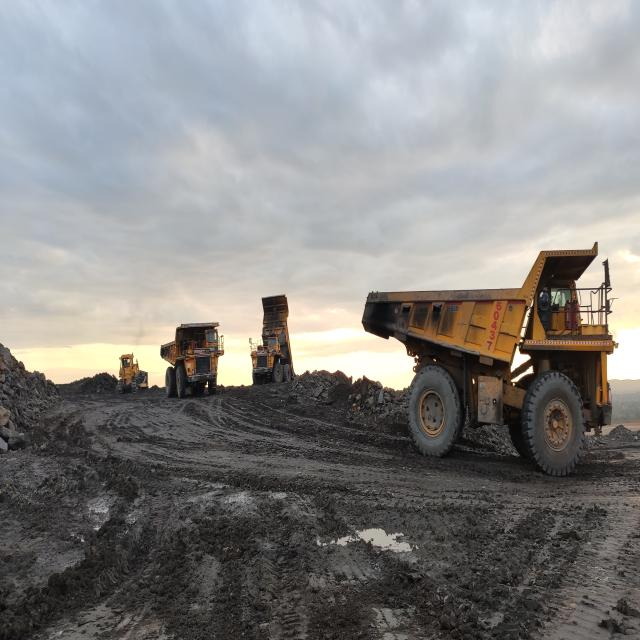buldozerpayloadergrader: (119, 353, 148, 393)
dump_truck: (362, 244, 615, 476), (160, 322, 224, 398), (250, 296, 295, 384)
